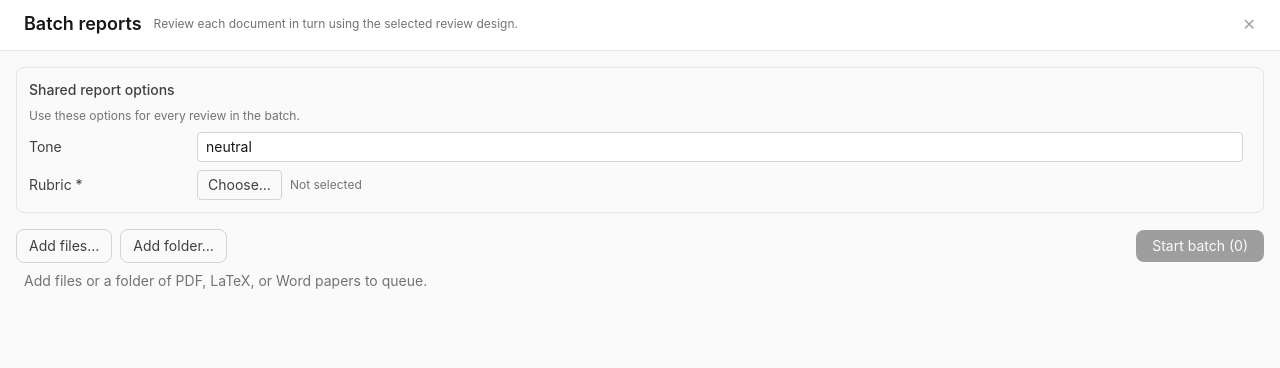
Test case: BatchPanel profile semantics › identifies the field when a named-input picker fails
The image size is (1280, 368).
Expected: the field labelled "Tone" is shown, [197,132,1243,162]
What coordinates should you click on to do the following:
click the button "Choose…"
I would click on:
 (240, 185)
Its box is [197,170,282,200].
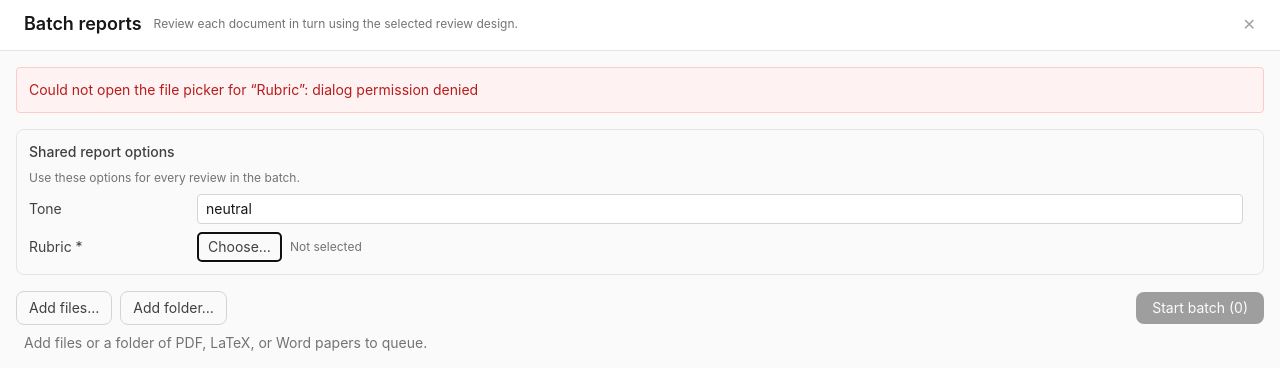
Expected: the message reads "Could not open the file picker for “Rubric”: dialog permission denied", [29,81,478,98]
